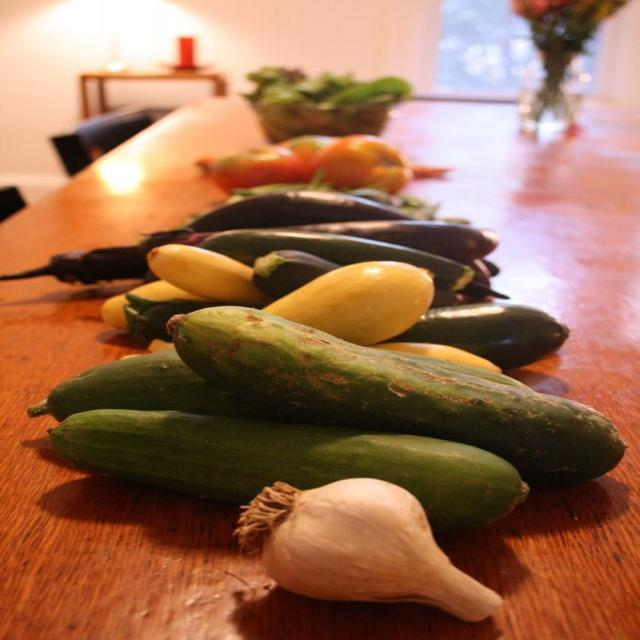Zucchini: (15, 180, 585, 360), (164, 302, 632, 486), (38, 397, 540, 525), (245, 252, 443, 352), (27, 348, 251, 427), (141, 240, 260, 300)
